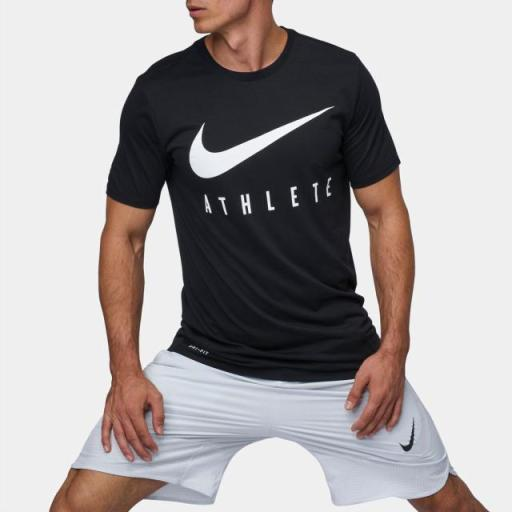Nike: (188, 103, 336, 182)
